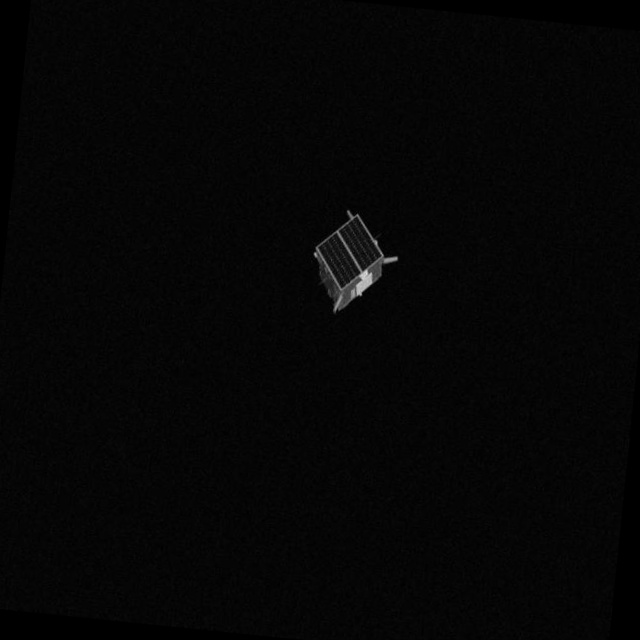medium_debris: (295, 208, 405, 322)
